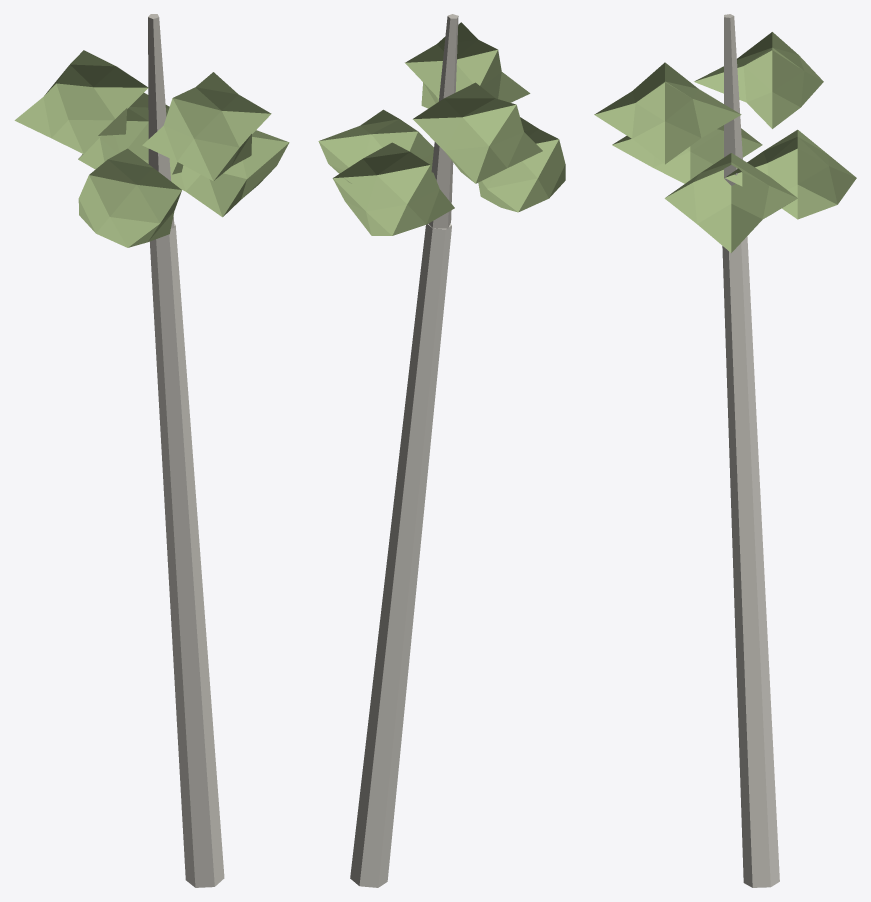
File: birch_v28.glb
3 renders of one model, left to right at view 1: azimuth 30°, elevation 25°; view 2: azimuth 150°, elevation 25°; view 3: azimuth 270°, elevation 25°, orthographic. The views are drawn at different scales.
Parts seen in each view (by area): view 1: lod0; view 2: lod0; view 3: lod0.
Boxes of the visible parts, box(x1,y1,x2,y2) form: lod0: box(14, 14, 289, 887); lod0: box(318, 14, 565, 887); lod0: box(594, 14, 856, 887).
Size of what is drawn, in the model's own units: 1.96 by 6.61 by 1.88.
